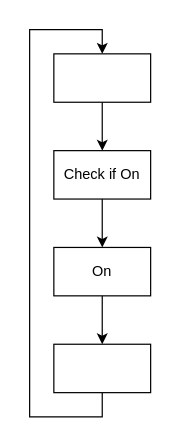
Image size: 172x448. Some labels were removed from this diagram. The centre of each missing label's shape, as x and y in pixels:
Off: the point at 102,77
Pause: the point at 102,368
